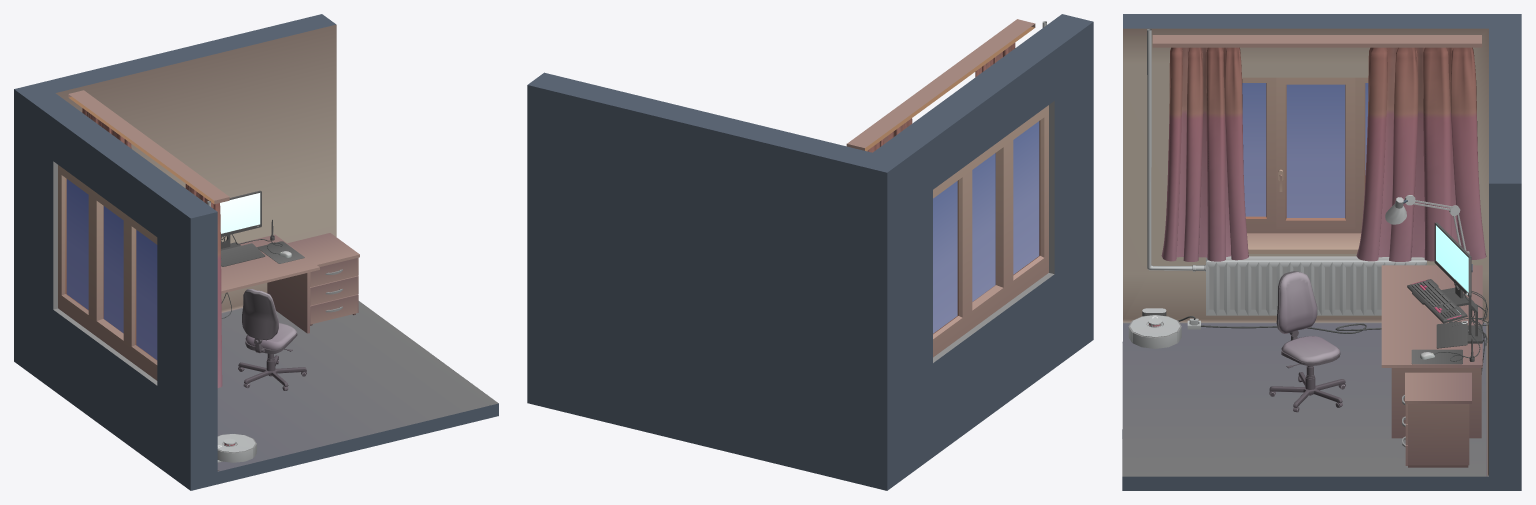
File: my_room.gltf
3 views of the same model, side by side, from view 1: azimuth 30°, elevation 25°; view 2: azimuth 150°, elevation 25°; view 3: azimuth 270°, elevation 25° (orthographic). The views are drawn at different scales.
Parts seen in each view (by area): view 1: body1, window4, window, table, cabin, railing, chair_body, emis, _________6_blinn1_0, vacuum1, pillows, tablet (+1 smaller); view 2: body1, window4, window, railing; view 3: body1, _________6_blinn1_0, window4, window, radiator, table, cabin, railing, pillows, vacuum1, chair_body, keyboard (+7 smaller).
Part boxes in pixels (x1=…): body1: x1=14, y1=14, x2=498, y2=490; window4: x1=66, y1=179, x2=157, y2=359; window: x1=58, y1=165, x2=157, y2=380; table: x1=221, y1=234, x2=319, y2=333; cabin: x1=287, y1=233, x2=359, y2=325; railing: x1=68, y1=90, x2=229, y2=204; chair_body: x1=238, y1=290, x2=306, y2=390; emis: x1=218, y1=193, x2=281, y2=447; _________6_blinn1_0: x1=82, y1=108, x2=222, y2=387; vacuum1: x1=217, y1=434, x2=256, y2=462; pillows: x1=245, y1=289, x2=296, y2=349; tablet: x1=221, y1=243, x2=265, y2=266; body1: x1=527, y1=14, x2=1093, y2=490; window4: x1=933, y1=121, x2=1039, y2=333; window: x1=933, y1=105, x2=1048, y2=357; railing: x1=846, y1=19, x2=1035, y2=151; body1: x1=1122, y1=14, x2=1521, y2=490; _________6_blinn1_0: x1=1161, y1=47, x2=1486, y2=261; window4: x1=1242, y1=83, x2=1368, y2=217; window: x1=1242, y1=77, x2=1368, y2=253; radiator: x1=1147, y1=29, x2=1426, y2=315; table: x1=1381, y1=265, x2=1482, y2=438; cabin: x1=1405, y1=372, x2=1471, y2=467; railing: x1=1152, y1=35, x2=1481, y2=47; pillows: x1=1278, y1=272, x2=1339, y2=362; vacuum1: x1=1128, y1=308, x2=1198, y2=348; chair_body: x1=1269, y1=271, x2=1345, y2=412; keyboard: x1=1407, y1=279, x2=1467, y2=323.
Bounding box in the file's own units: 25.71 × 21.79 × 25.59.
